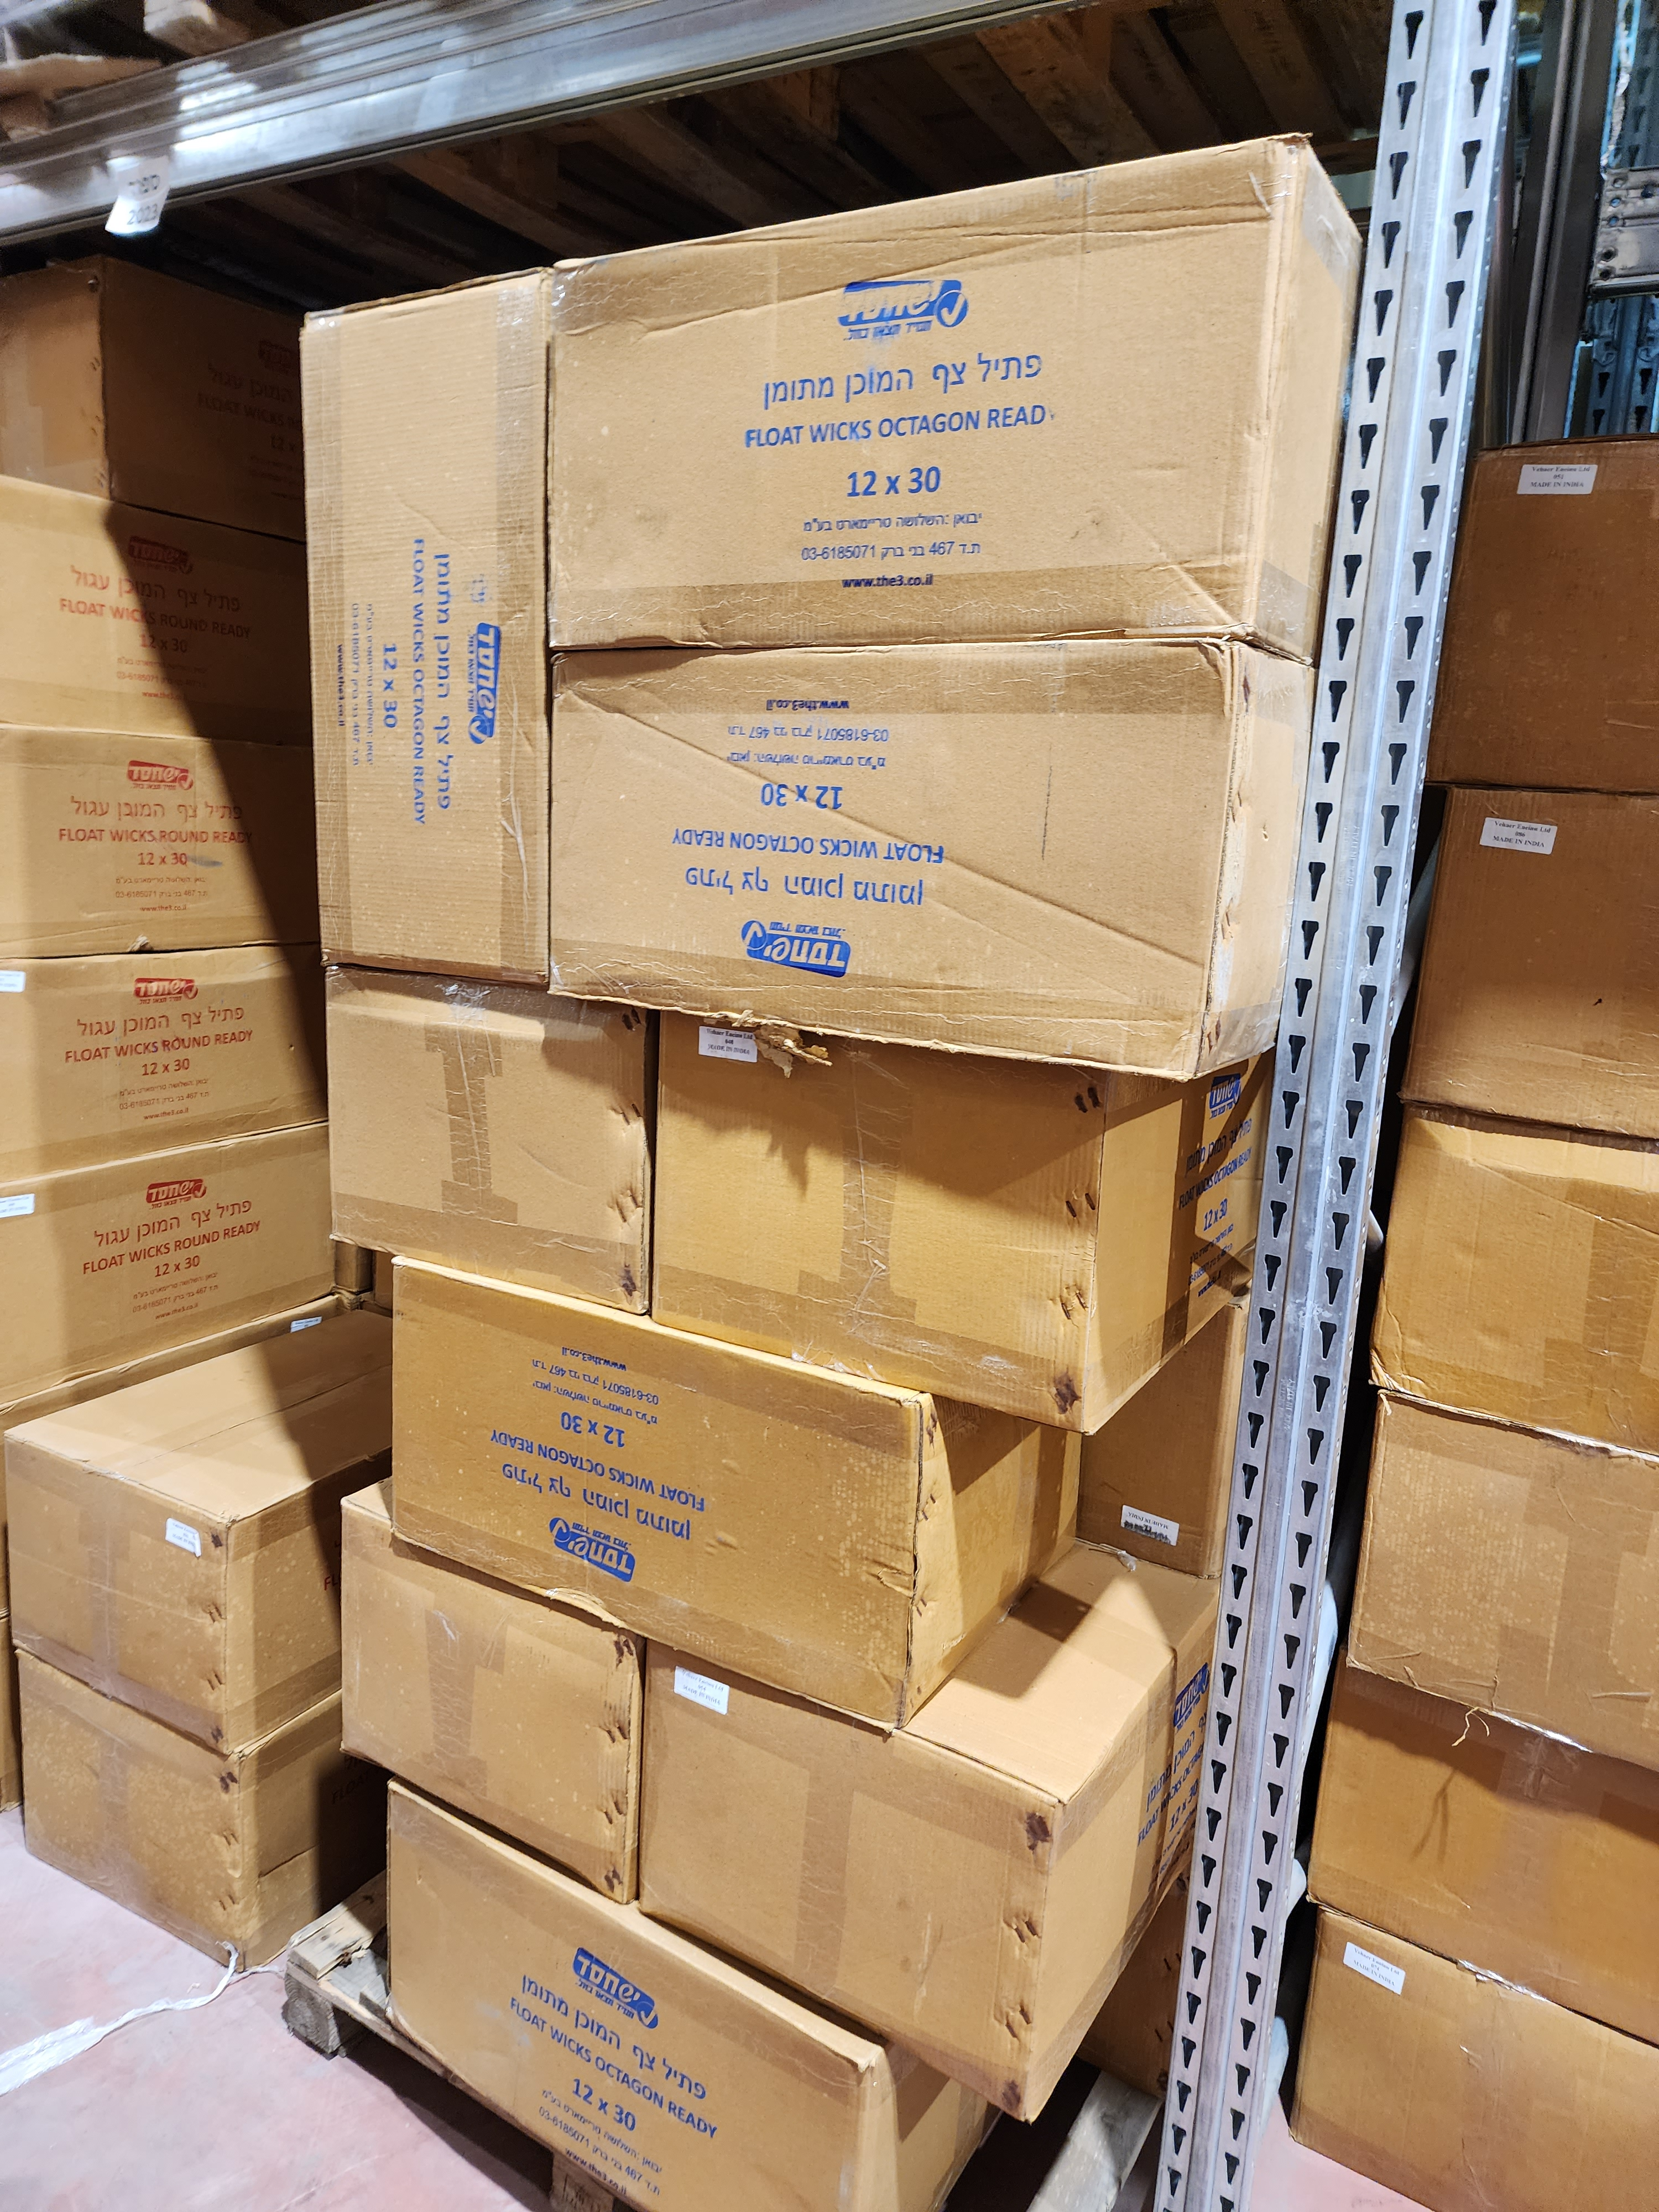box: (570, 143, 1410, 672), (359, 1245, 1131, 1714), (535, 637, 1335, 1083), (356, 1759, 1065, 2212), (619, 963, 1274, 1428), (648, 1623, 1263, 2107), (7, 465, 291, 1414), (279, 251, 542, 989), (1455, 780, 1582, 2153), (272, 967, 669, 1317), (314, 1477, 641, 1890), (10, 1369, 378, 1730)
